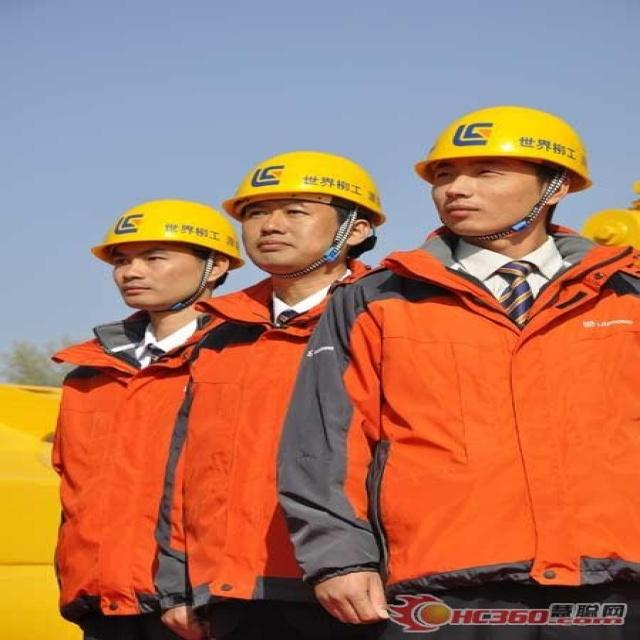helmet: (417, 139, 586, 313), (227, 202, 381, 374), (94, 266, 242, 418)
